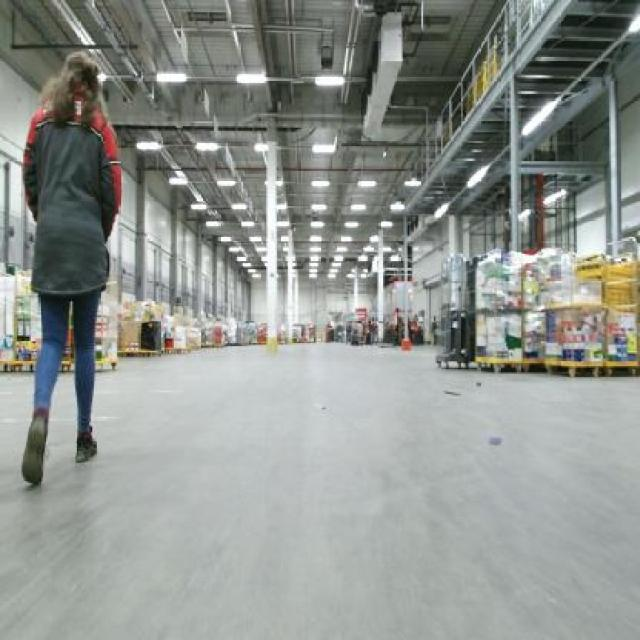ground: (0, 341, 638, 638)
pallet: (540, 356, 640, 380), (473, 353, 544, 376), (56, 357, 124, 371), (1, 356, 36, 375), (117, 348, 161, 359)
